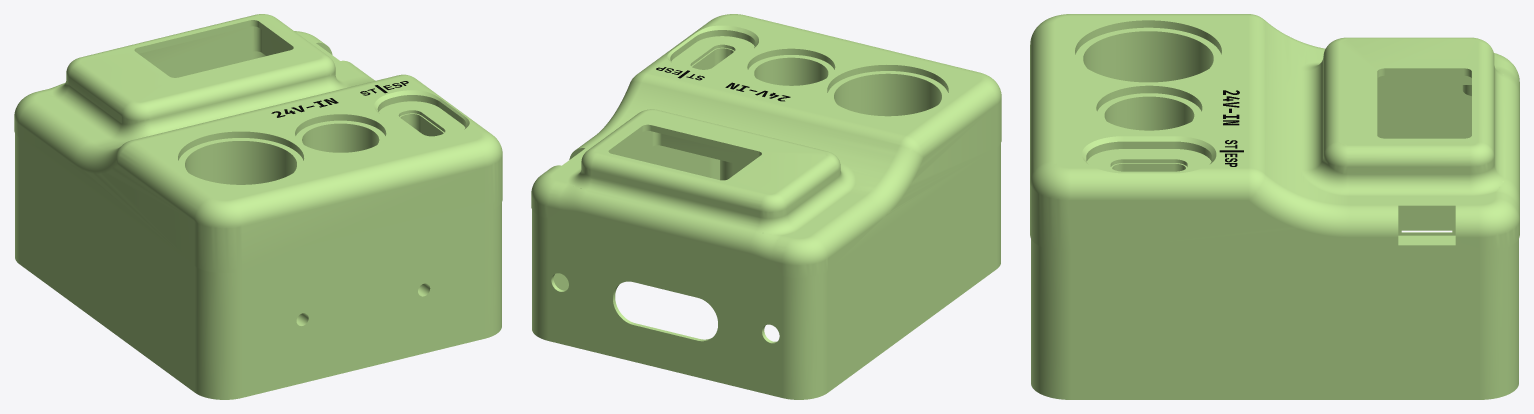
File: Main_CaseButtons.dae
3 renders of one model, left to right at view 1: azimuth 30°, elevation 25°; view 2: azimuth 150°, elevation 25°; view 3: azimuth 270°, elevation 25°, orthographic. The views are drawn at different scales.
Visible parts, largest first — view 1: Main_CaseButtons; view 2: Main_CaseButtons; view 3: Main_CaseButtons.
Boxes of the visible parts, x1,y1,x2,y2 form: Main_CaseButtons: (14, 14, 502, 399); Main_CaseButtons: (531, 14, 1001, 399); Main_CaseButtons: (1030, 14, 1519, 399).
Bounding box in the file's own units: 0.05 × 0.06 × 0.03.
